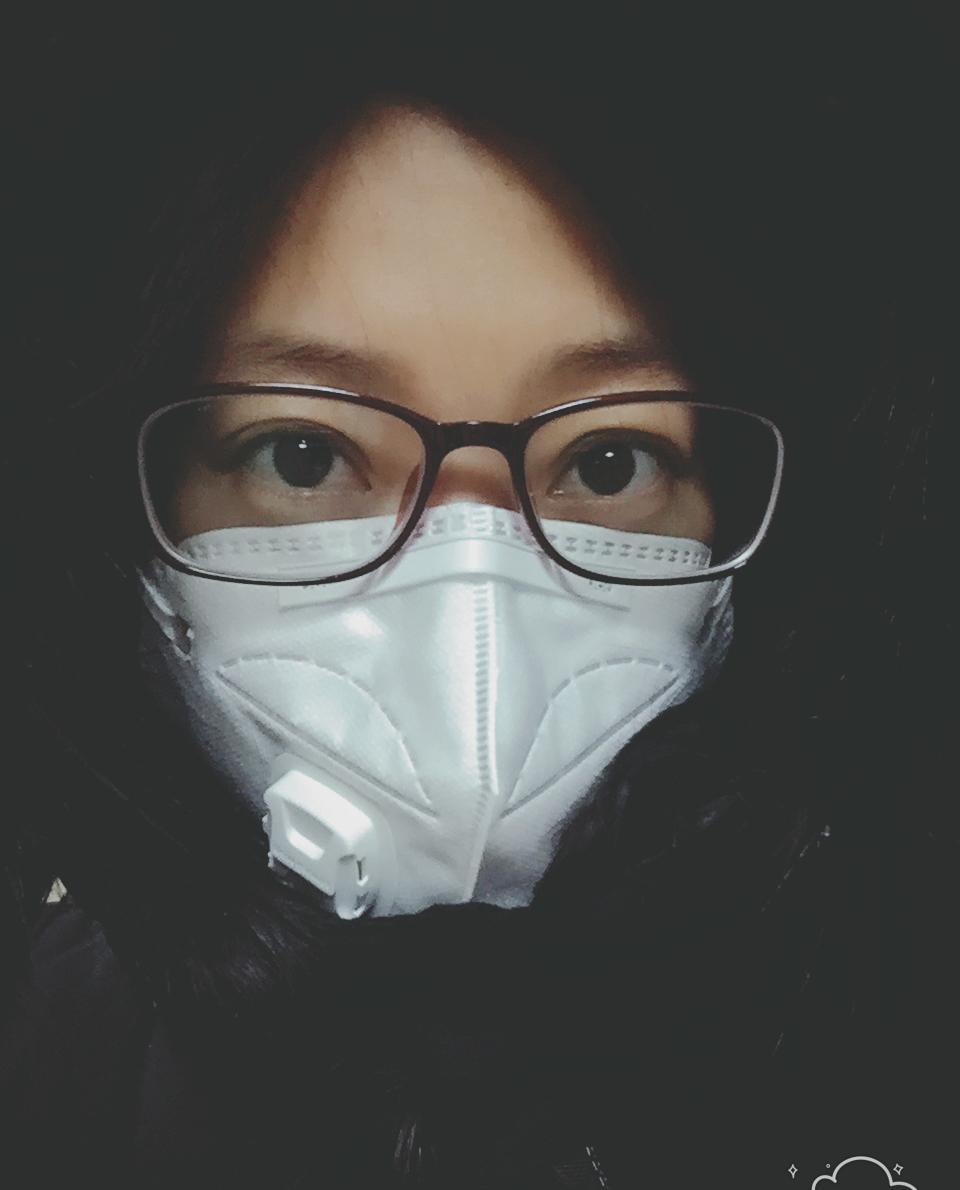OK: (122, 310, 741, 929)
